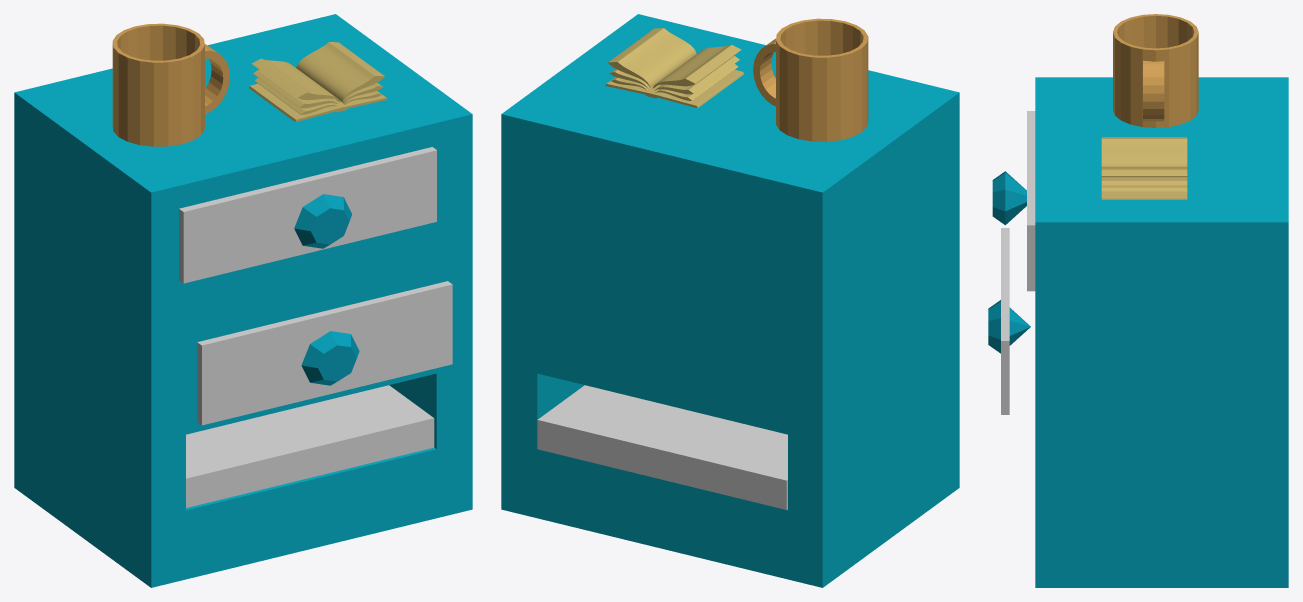
File: Frantic Hango.glb
3 views of the same model, side by side, from view 1: azimuth 30°, elevation 25°; view 2: azimuth 150°, elevation 25°; view 3: azimuth 270°, elevation 25° (orthographic). The views are drawn at different scales.
Visible parts, largest first — view 1: Mesh_Mesh_head_geo.001_lambert2SG.001; view 2: Mesh_Mesh_head_geo.001_lambert2SG.001; view 3: Mesh_Mesh_head_geo.001_lambert2SG.001.
Part boxes in pixels (x1=…): Mesh_Mesh_head_geo.001_lambert2SG.001: x1=14, y1=14, x2=472, y2=587; Mesh_Mesh_head_geo.001_lambert2SG.001: x1=501, y1=14, x2=959, y2=587; Mesh_Mesh_head_geo.001_lambert2SG.001: x1=988, y1=14, x2=1288, y2=587.
Bounding box in the file's own units: 80 × 114 × 70.
